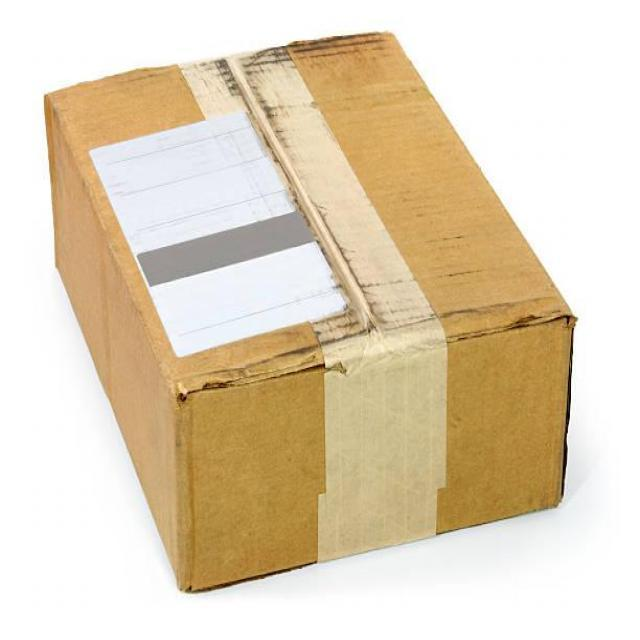box: (36, 23, 580, 601)
